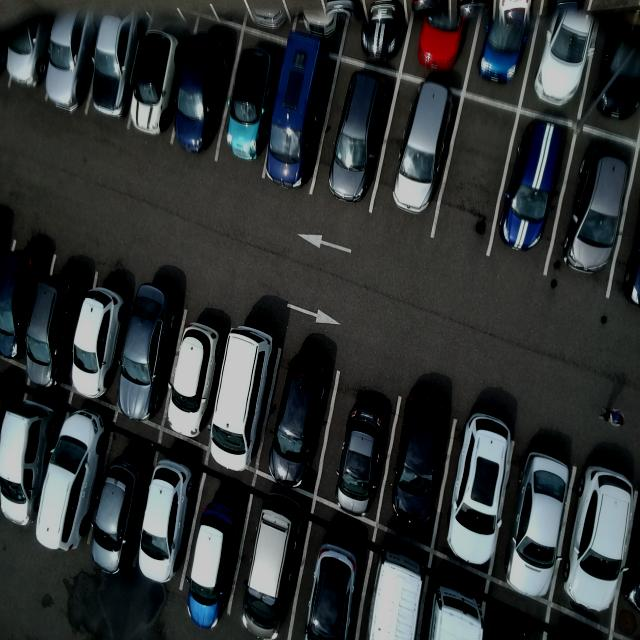car: (564, 462, 640, 616), (445, 412, 515, 576), (263, 30, 331, 194), (35, 413, 114, 552), (505, 449, 573, 602), (498, 121, 570, 261), (211, 323, 277, 475), (242, 496, 311, 640), (393, 78, 461, 215), (560, 148, 632, 275), (327, 72, 395, 205), (118, 278, 178, 426), (268, 353, 329, 493), (139, 458, 201, 590), (391, 392, 450, 530), (1, 405, 60, 533), (187, 502, 239, 634), (220, 46, 277, 162), (169, 323, 223, 442), (175, 41, 231, 153), (336, 405, 390, 520), (73, 288, 127, 403), (25, 279, 80, 390), (87, 6, 141, 115), (128, 33, 183, 140), (94, 452, 141, 572)
free_space: (429, 89, 526, 254)
